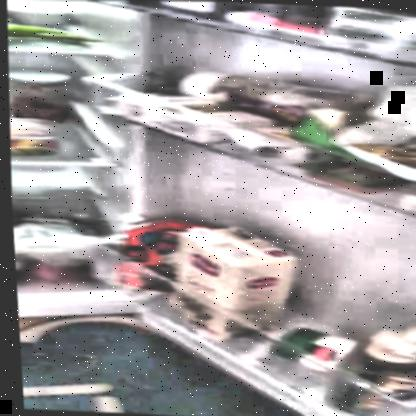milk: (173, 229, 285, 312)
